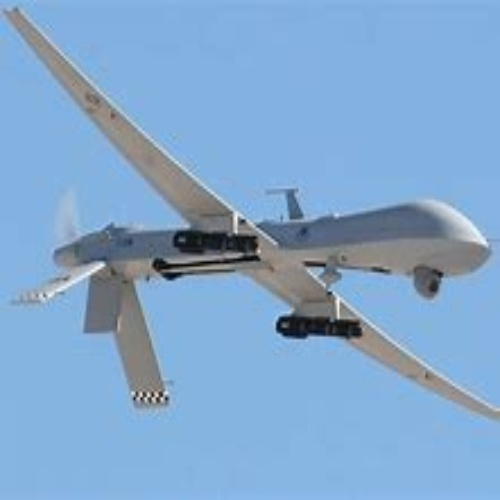uav: (2, 5, 500, 425)
